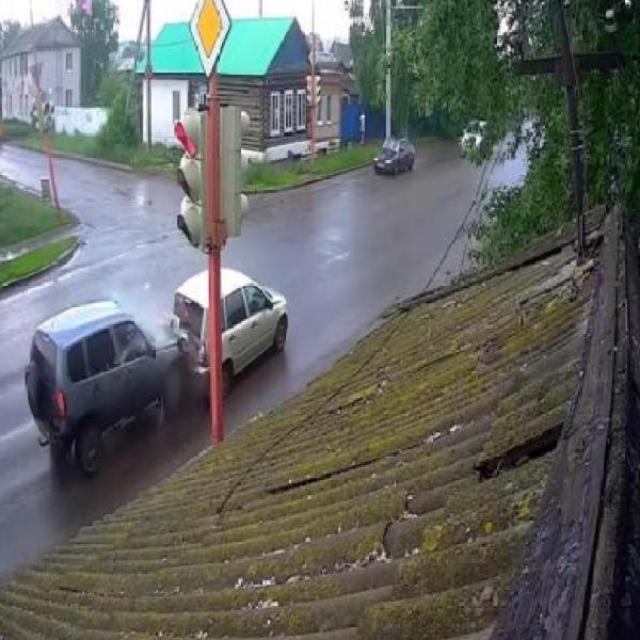accident: (26, 264, 290, 476)
